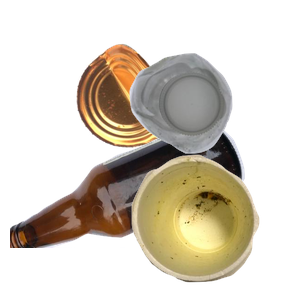glass: (10, 120, 247, 300)
metal: (74, 41, 229, 181)
plastic: (127, 51, 300, 197)
trash: (129, 152, 300, 300)
